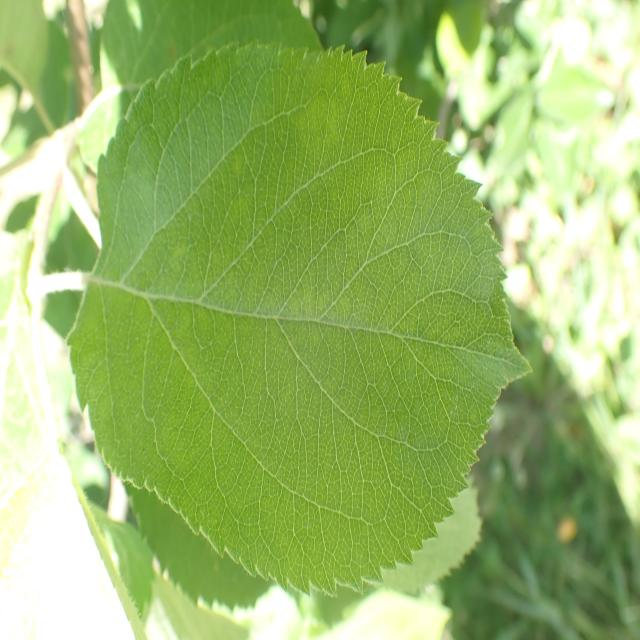healthy: (66, 39, 532, 600), (0, 226, 146, 640)
